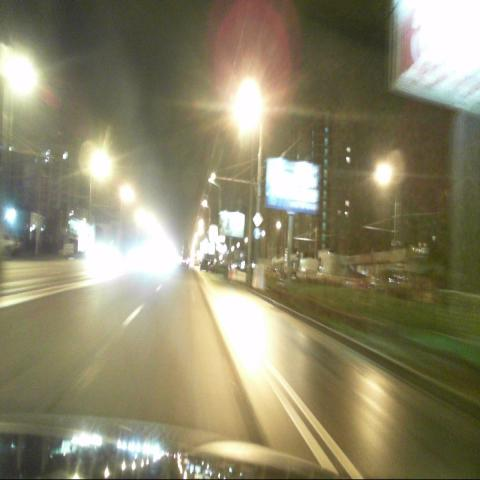2_1: (252, 211, 263, 228)
